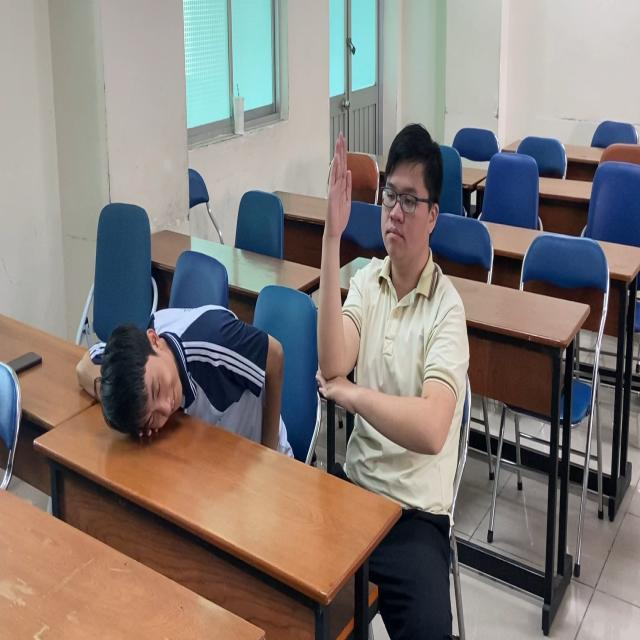raise_hand: (315, 119, 473, 492)
sleep: (76, 303, 288, 461)
